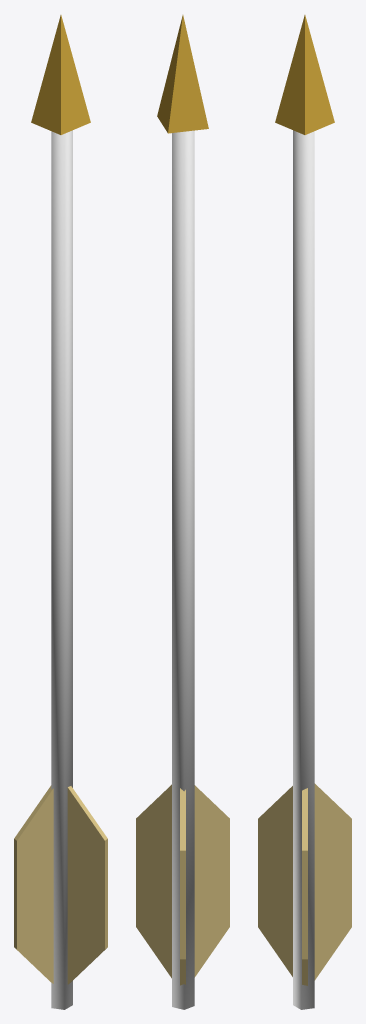
The model's file is ichor_arrow.glb.
3 views of the same model, side by side, from view 1: azimuth 90°, elevation 25°; view 2: azimuth 150°, elevation 25°; view 3: azimuth 270°, elevation 25° (orthographic).
Parts seen in each view (by area): view 1: ichor_arrow_v0; view 2: ichor_arrow_v0; view 3: ichor_arrow_v0.
Part boxes in pixels (x1,y1,x2,y2): ichor_arrow_v0: (14, 15, 107, 1009); ichor_arrow_v0: (136, 15, 229, 1009); ichor_arrow_v0: (258, 15, 351, 1009).
Size of the model in its own units: 0.055 by 0.73 by 0.0626.
